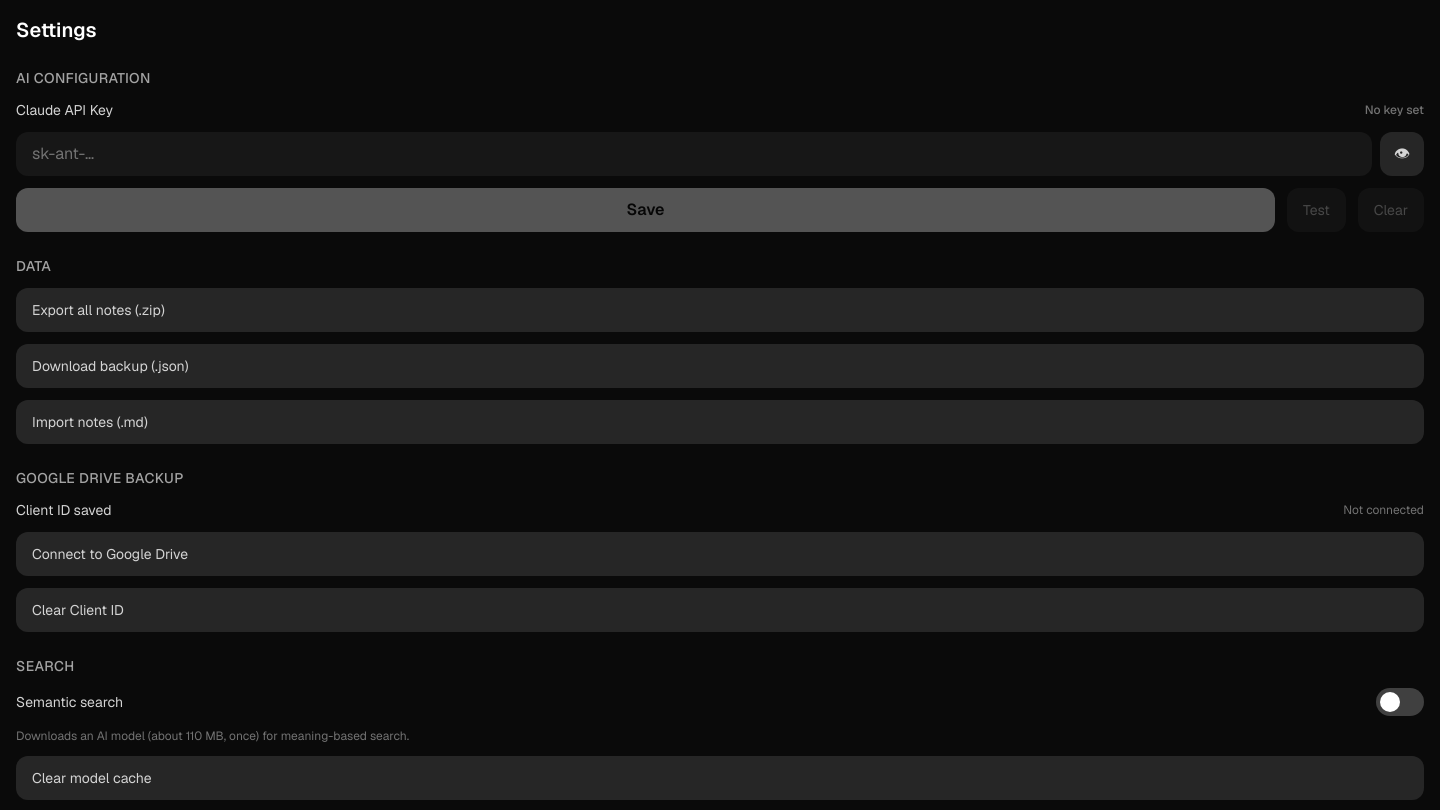
Test: SettingsView › shows "Invalid key" status after failed test
In the password field labelled "Claude API Key": (694, 154) x1=16 y1=132 x2=1372 y2=176, type "sk-ant-bad"
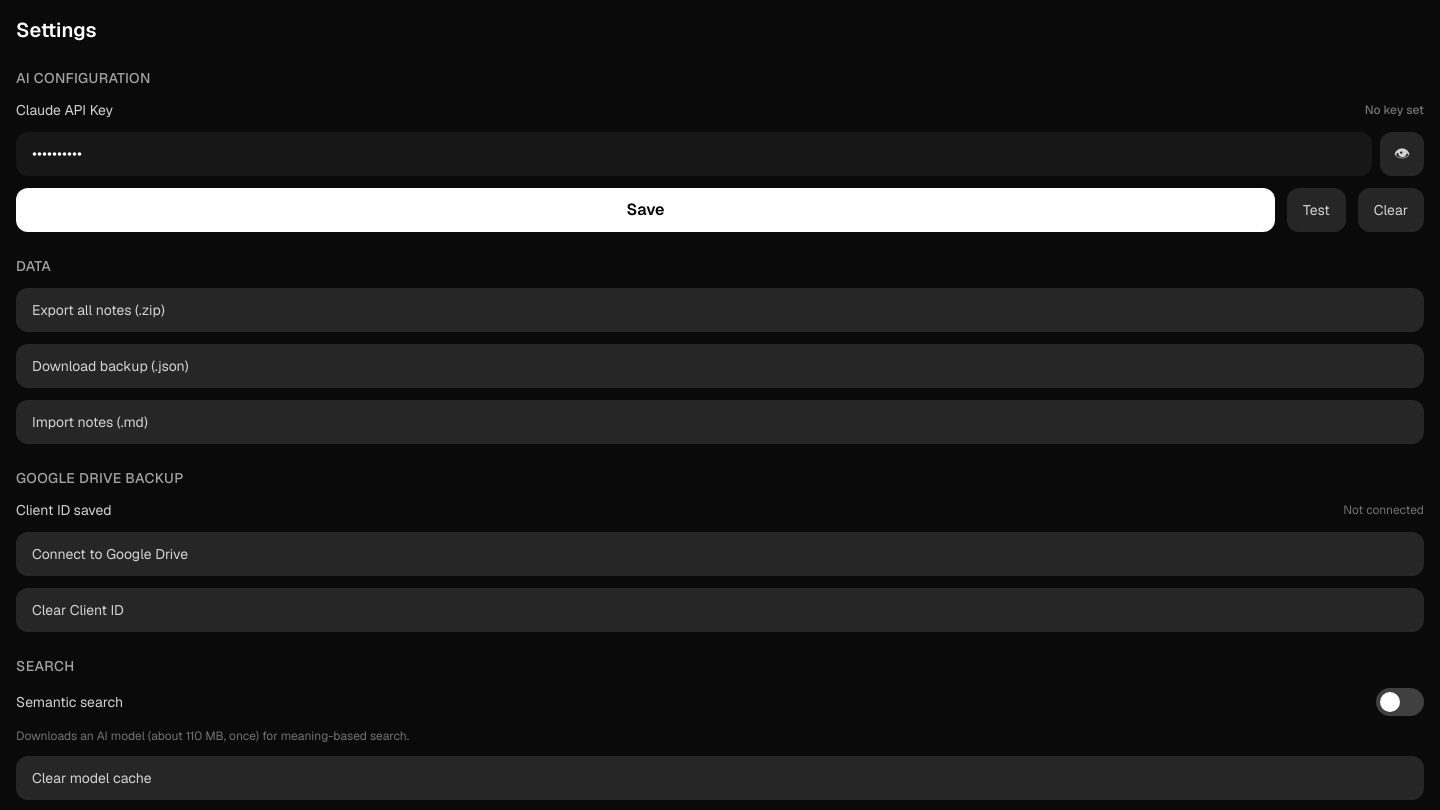
Click the button with aria-label "test api key": (1316, 210) x1=1287 y1=188 x2=1346 y2=232
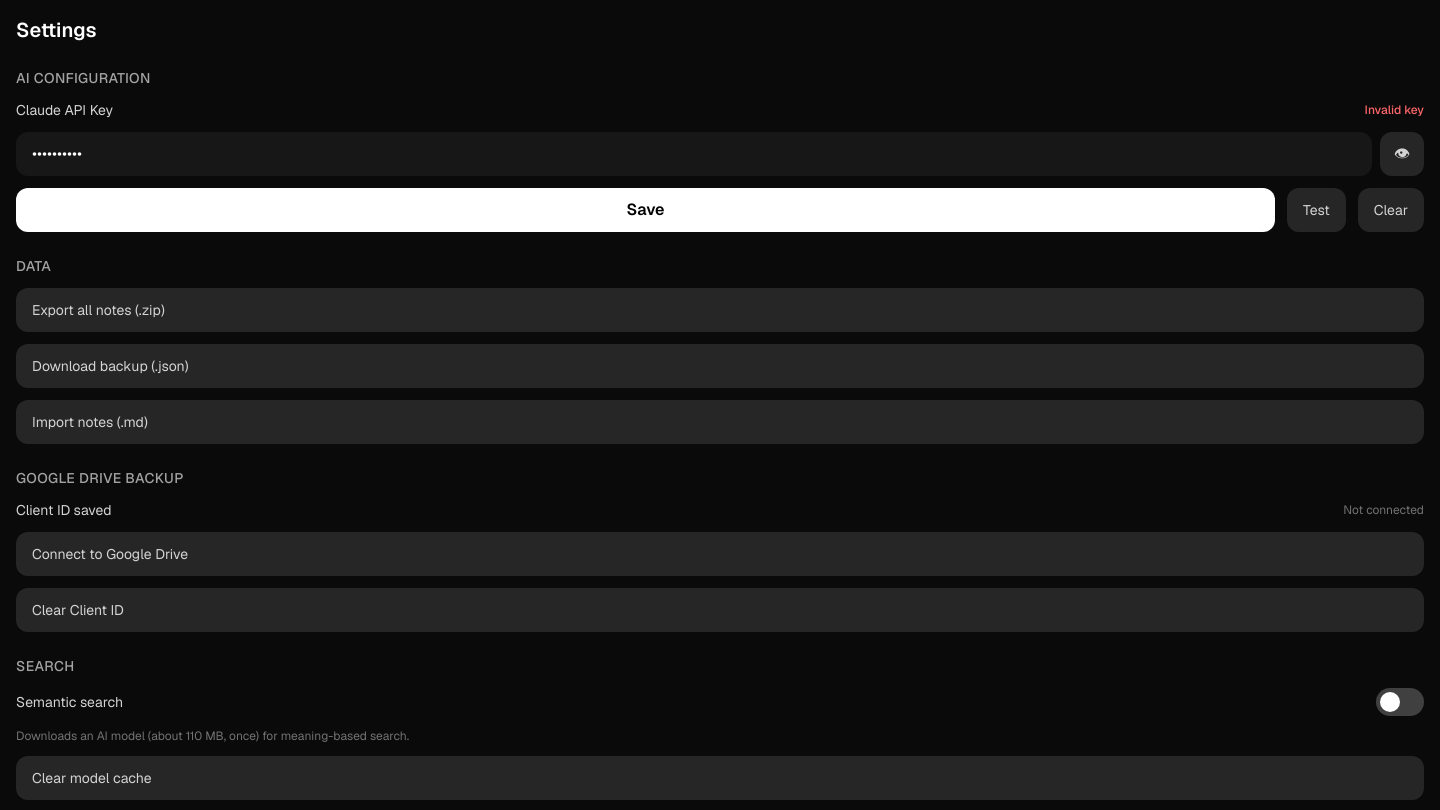
Expected: the message reads "Invalid key", x1=1364 y1=102 x2=1424 y2=118
